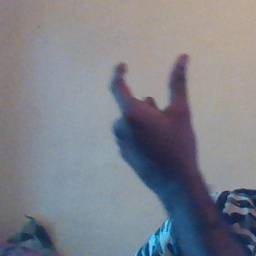U: (91, 46, 207, 171)
